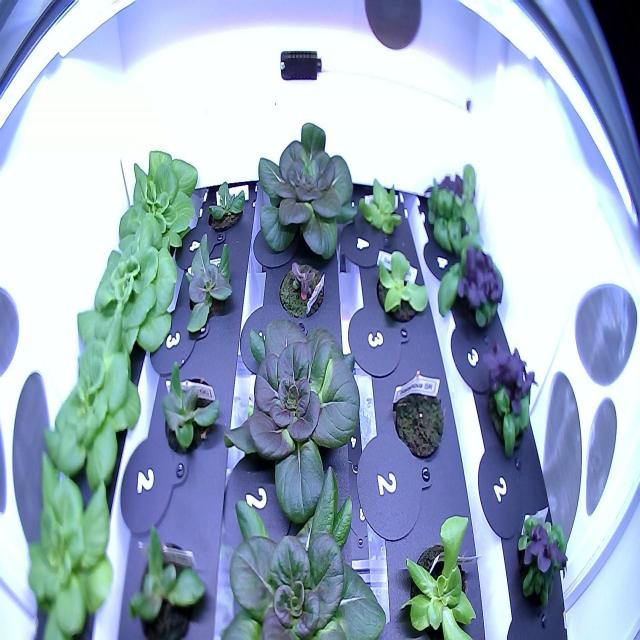pod: (386, 364, 450, 466)
young: (218, 306, 371, 531), (209, 452, 391, 640), (37, 300, 144, 492), (19, 449, 120, 640), (74, 210, 180, 376), (250, 111, 358, 272), (389, 500, 485, 640), (112, 143, 202, 261), (124, 516, 211, 638), (158, 349, 224, 464), (182, 224, 235, 347), (370, 240, 432, 334), (352, 162, 408, 241), (275, 254, 329, 321), (204, 168, 250, 242)
